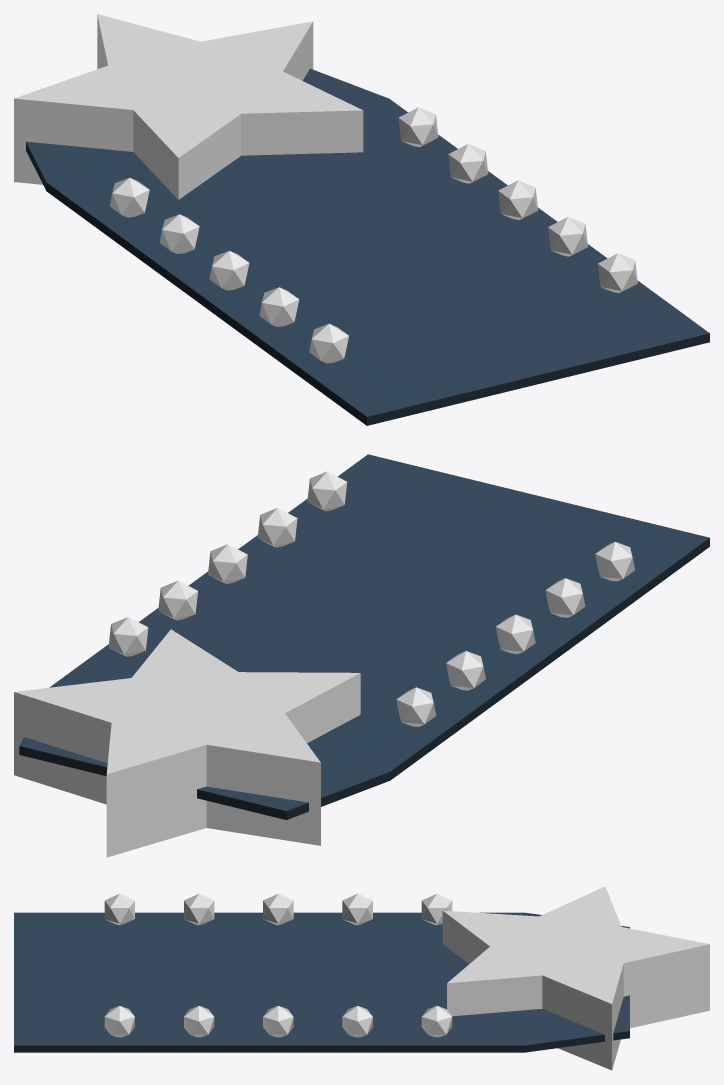
File: YldzAyr.fbx
3 views of the same model, one above another, from view 1: azimuth 30°, elevation 25°; view 2: azimuth 150°, elevation 25°; view 3: azimuth 270°, elevation 25° (orthographic). The views are drawn at different scales.
Visible parts, largest first — view 1: Platform, Platform.001; view 2: Platform, Platform.001; view 3: Platform, Platform.001.
Part boxes in pixels (x1,y1,x2,y2): Platform: (26, 68, 709, 425); Platform.001: (14, 14, 363, 199); Platform: (19, 454, 709, 819); Platform.001: (14, 629, 360, 857); Platform: (14, 893, 629, 1052); Platform.001: (442, 886, 709, 1070).
Size of the model in its own units: 401 by 93.38 by 886.
